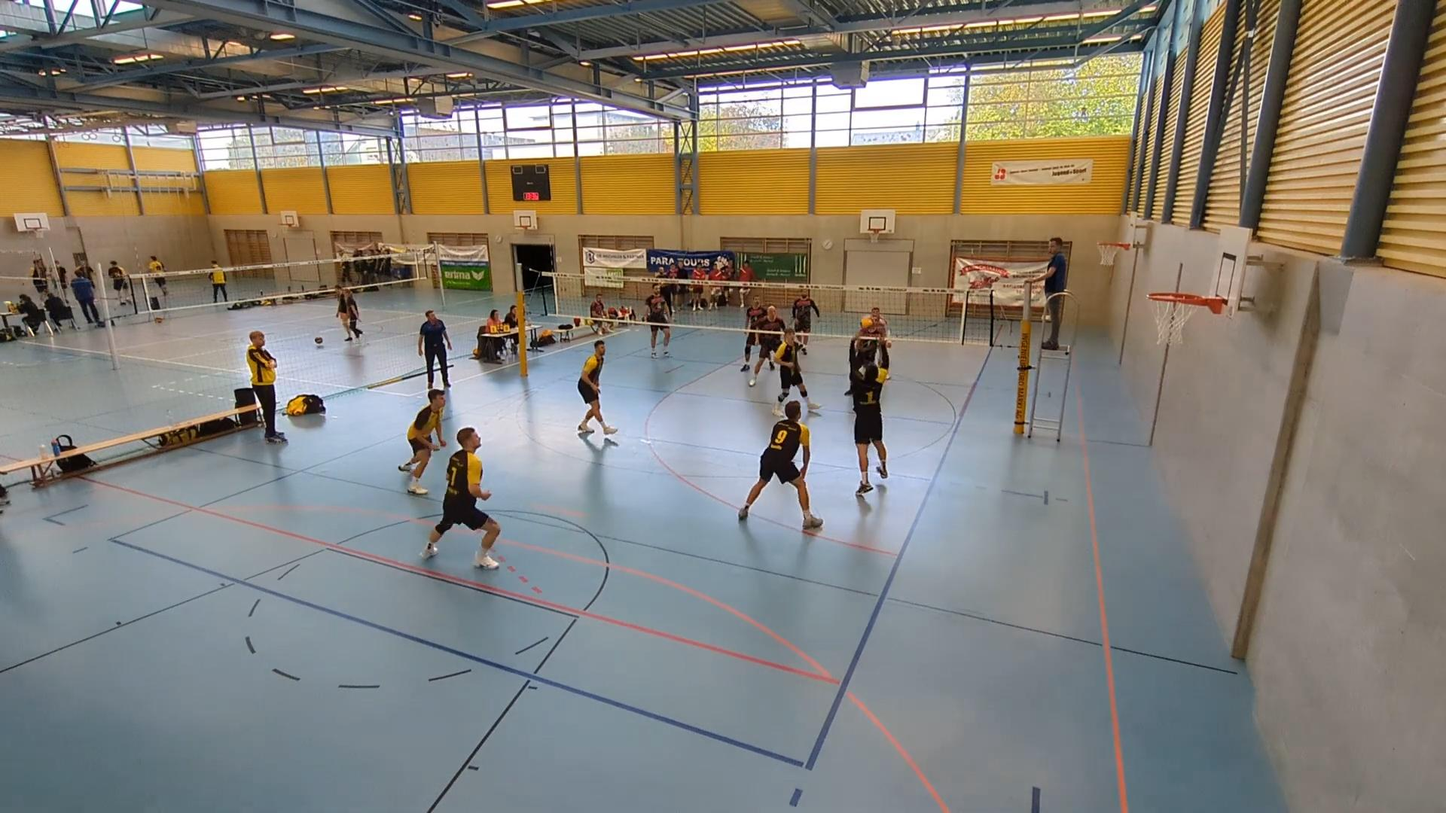difesa: (841, 329, 889, 518)
